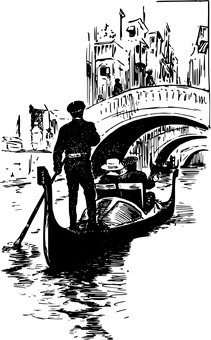boat: (35, 164, 181, 275)
person: (54, 97, 102, 233)
